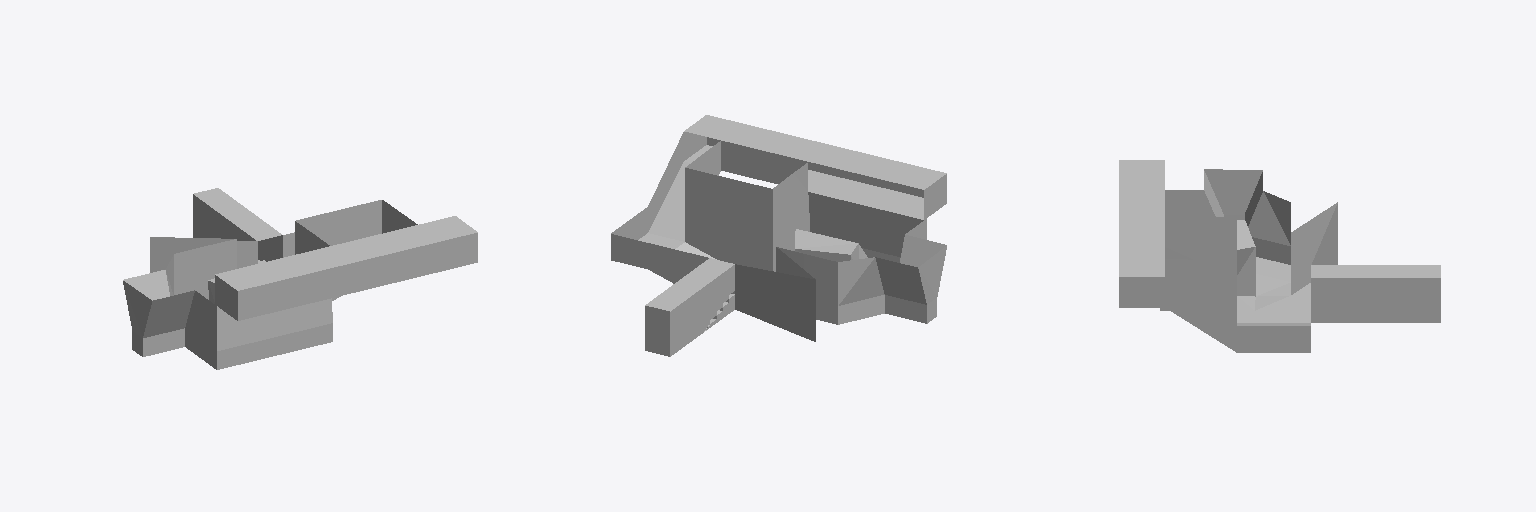
File: TestMap.obj
3 views of the same model, side by side, from view 1: azimuth 30°, elevation 25°; view 2: azimuth 150°, elevation 25°; view 3: azimuth 270°, elevation 25° (orthographic).
Visible parts, largest first — view 1: Cube; view 2: Cube; view 3: Cube.
Part boxes in pixels (x1,y1,x2,y2): Cube: (123,188,477,369); Cube: (611,115,946,356); Cube: (1119,160,1440,352).
Size of the model in its own units: 31.5 by 10.16 by 30.94.